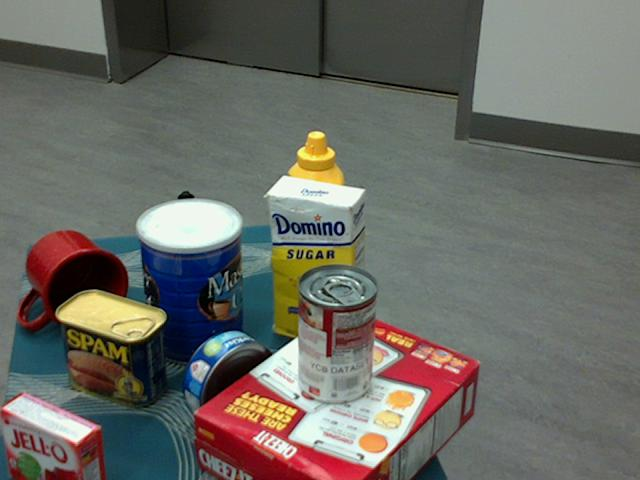cracker_box: (194, 307, 480, 479)
gelatin_box: (0, 389, 104, 479)
large_marker: (178, 190, 197, 288)
master_chef_can: (135, 198, 242, 366)
mug: (20, 229, 127, 329)
mustard_bottle: (285, 131, 342, 307)
potted_meat_can: (55, 288, 165, 405)
sugar_box: (267, 174, 365, 354)
tomato_soup_can: (295, 265, 377, 405)
tuna_fish_can: (182, 330, 275, 428)
